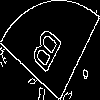B: (24, 25, 64, 83)
